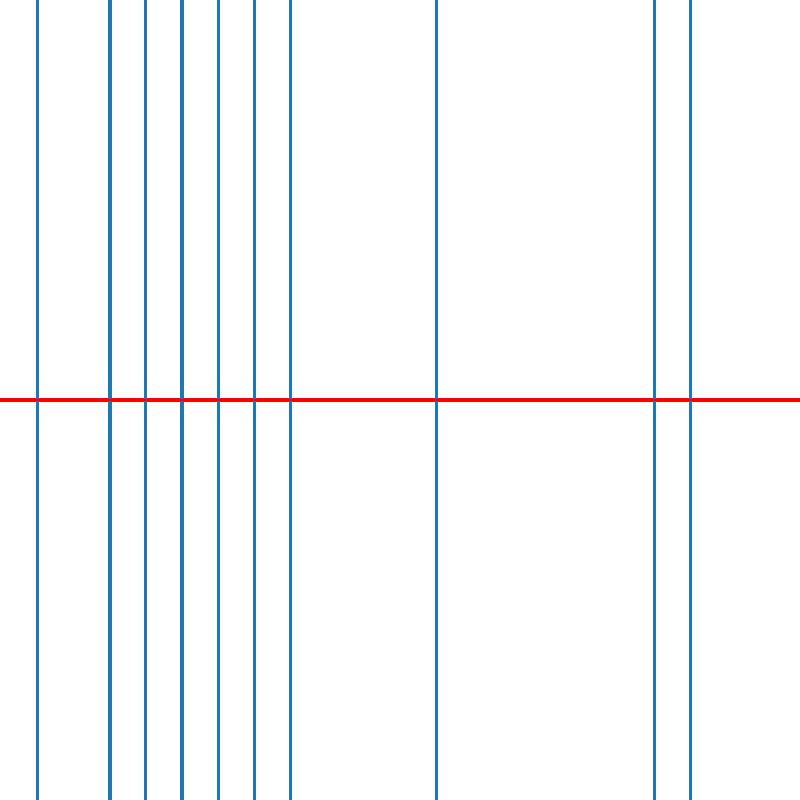root: (650, 396, 658, 404), (250, 396, 258, 404), (32, 396, 40, 404), (432, 396, 440, 404), (141, 396, 149, 404), (178, 396, 185, 404), (687, 396, 694, 404), (105, 396, 112, 404), (214, 396, 221, 404), (287, 396, 294, 404)
